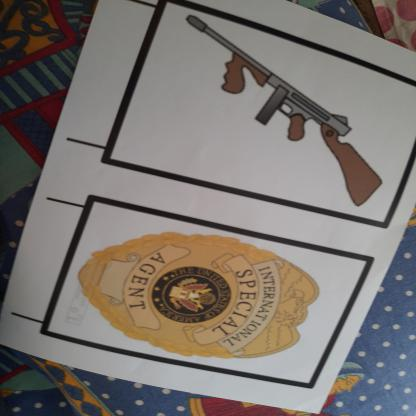Bootlegger: (144, 3, 395, 214)
G-man: (79, 223, 331, 375)
